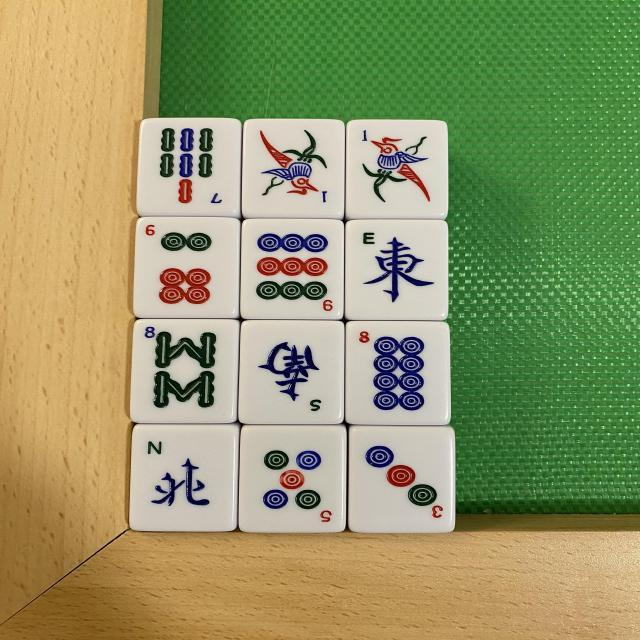hwe: (348, 221, 449, 323)
hwn: (131, 426, 239, 534)
hws: (239, 318, 343, 422)
sb1: (244, 119, 346, 216), (350, 120, 448, 218)
sb7: (135, 117, 234, 215)
sb8: (132, 319, 240, 423)
sd3: (350, 422, 452, 530)
sd5: (239, 424, 343, 530)
sd6: (136, 218, 242, 320)
sd8: (346, 320, 444, 424)
sd9: (240, 220, 342, 320)
